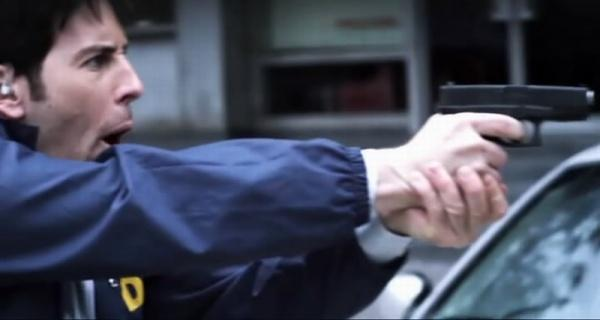Gun: (434, 82, 597, 147)
